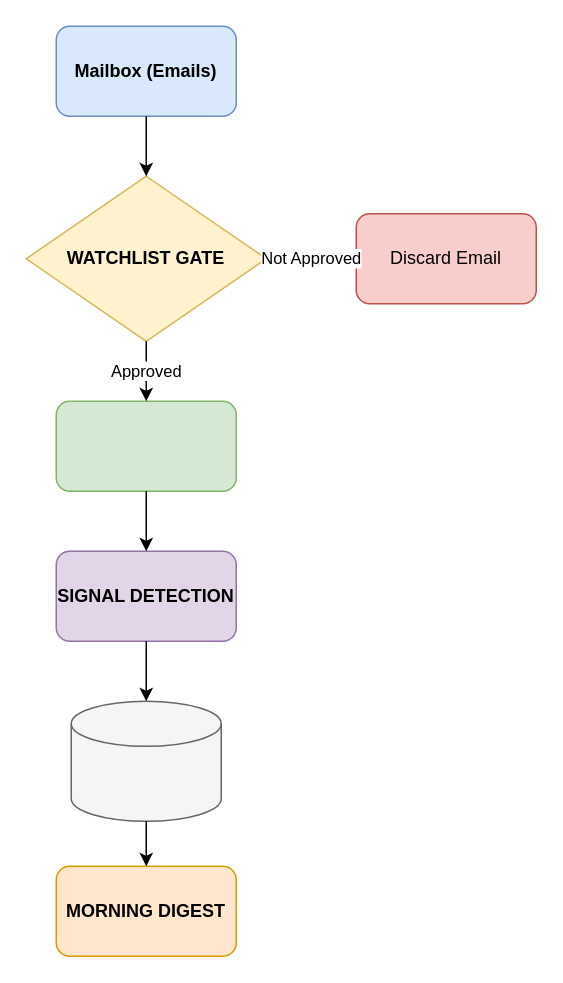
This 563x983 diagram has some shape labels left out. The shapes that lost their labels are listed below. From the top down, each one's centre as x and y in pixels, then its label:
At point 145,445: "MASKING LAYER".
At point 145,760: "ZERO-STORAGE DB".
